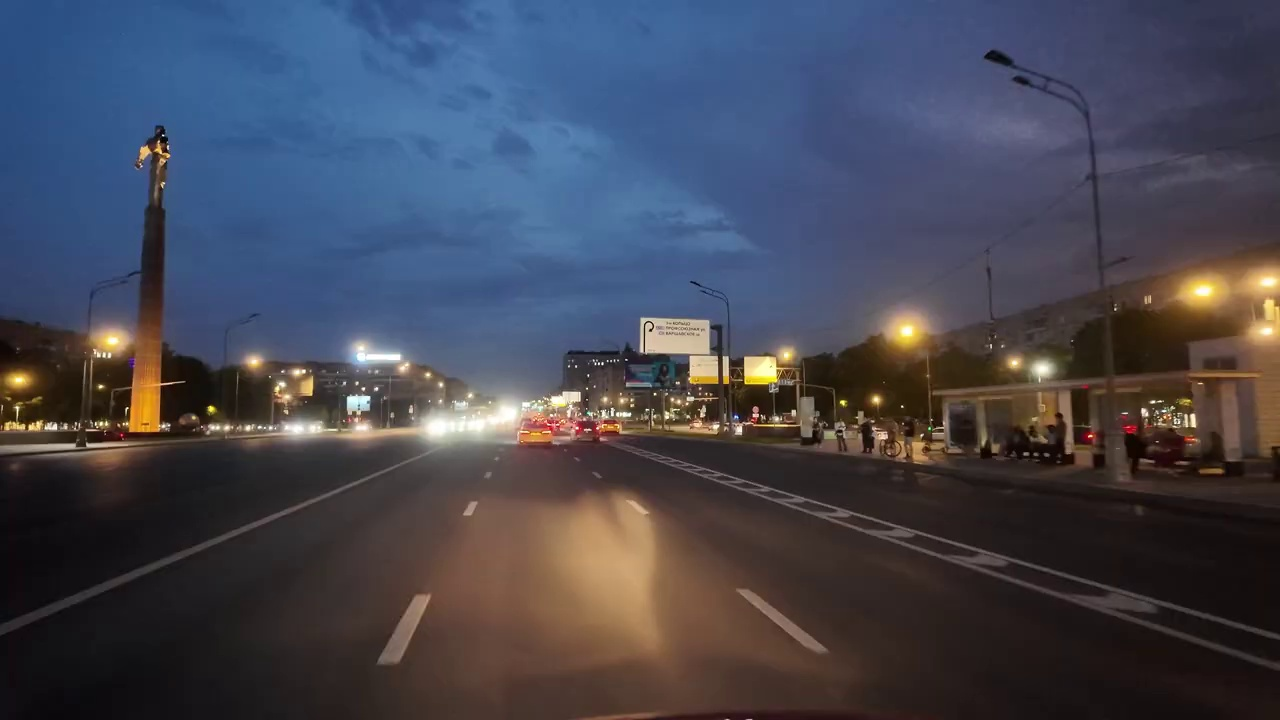acesa: (1182, 276, 1224, 308), (888, 316, 926, 350), (1248, 310, 1279, 345), (1251, 269, 1279, 302), (3, 369, 34, 394), (96, 329, 125, 355), (243, 352, 265, 374), (353, 339, 372, 362)
apagada: (979, 45, 1020, 87)
